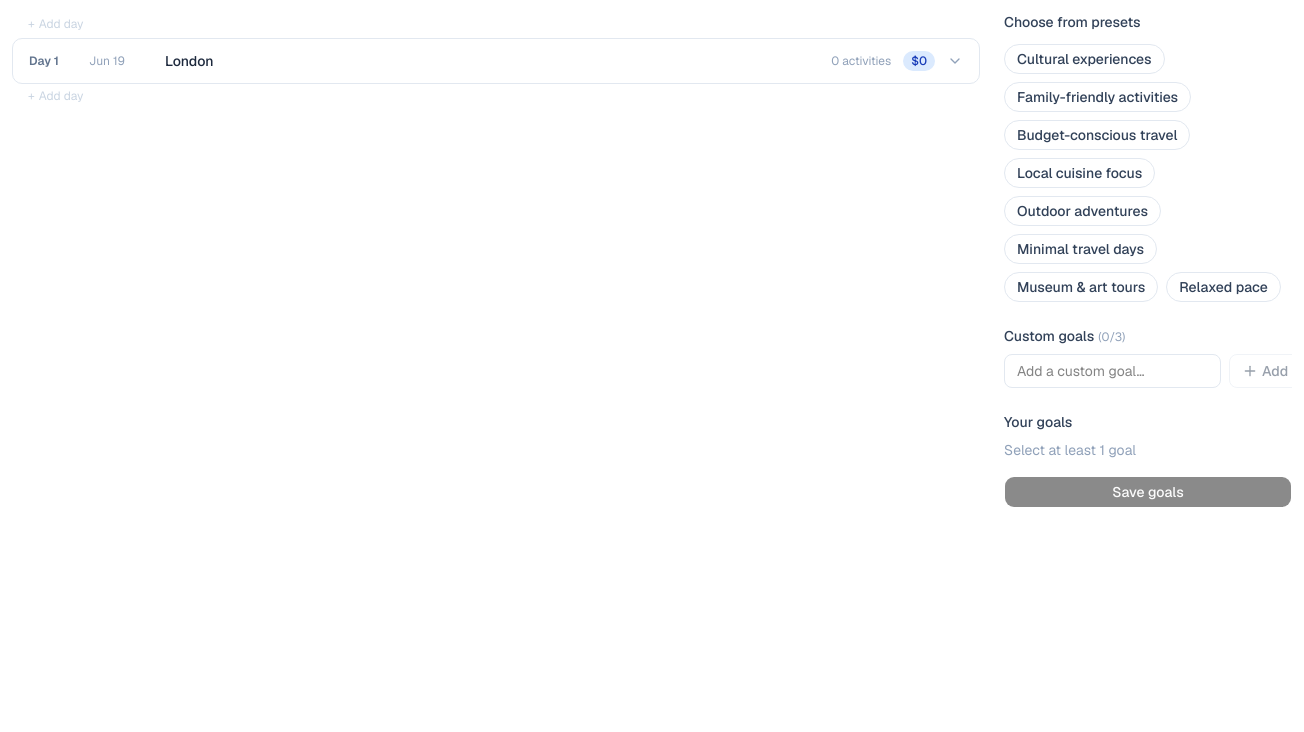
Scenario: validation failure is silent — no error state leaks into the UI
Expected: the text "London" is shown, [165,52,214,70]
Click the 1st button "+ Add day" at (61, 24), box [12,12,980,36]
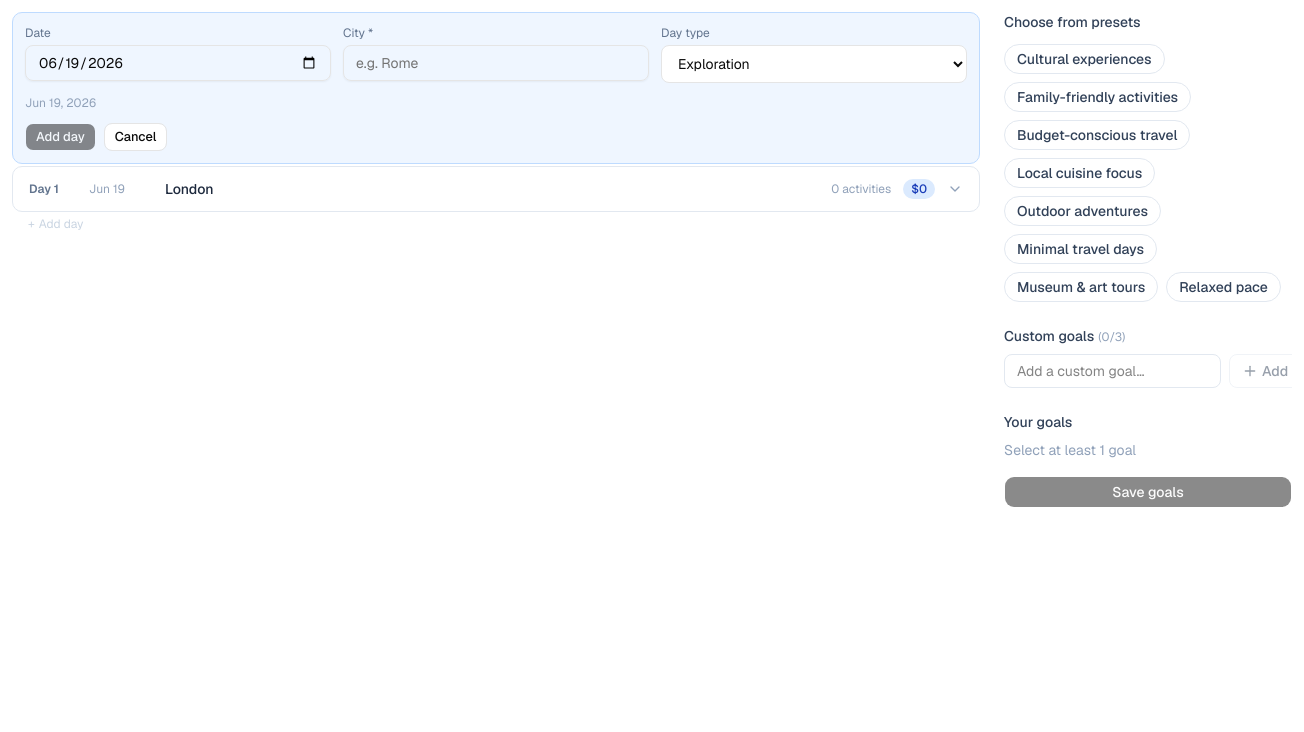
Type "Rome" into the field labelled "City *" at (496, 63), box [343,45,649,81]
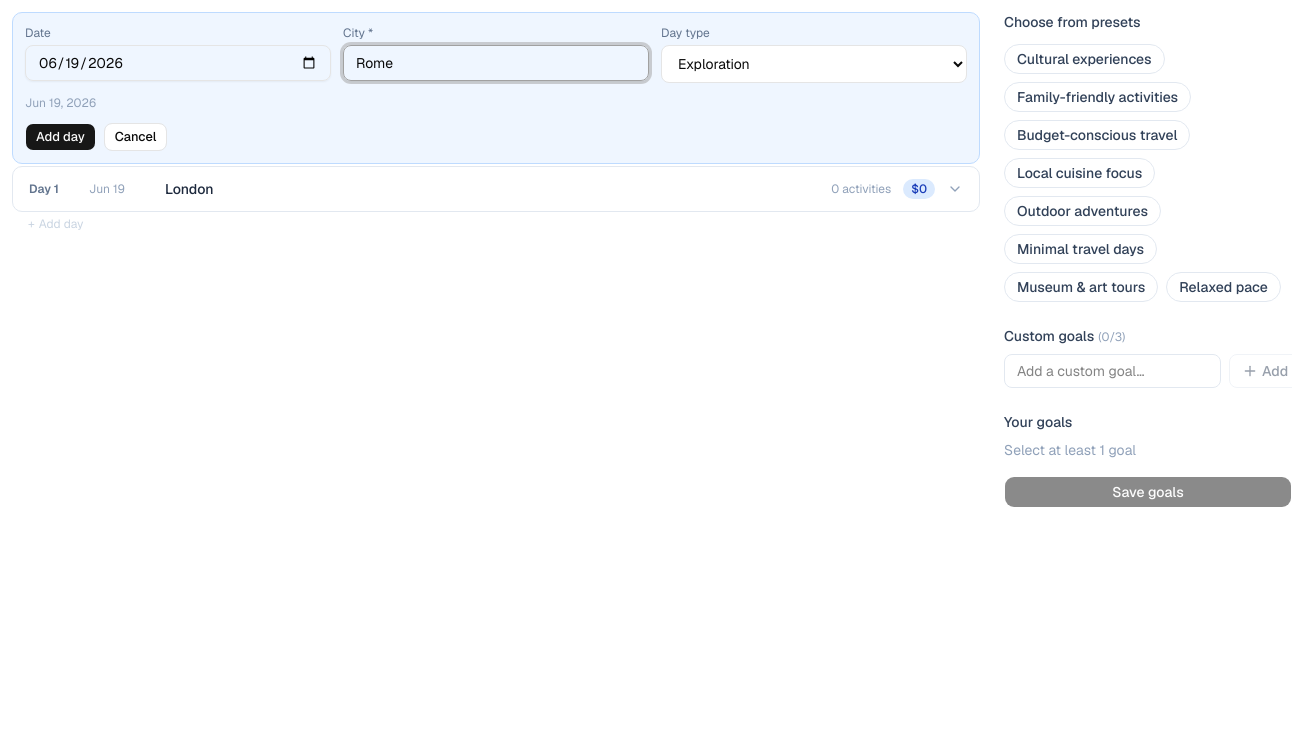
Click the button "Add day" at (60, 137), box [25,123,96,151]
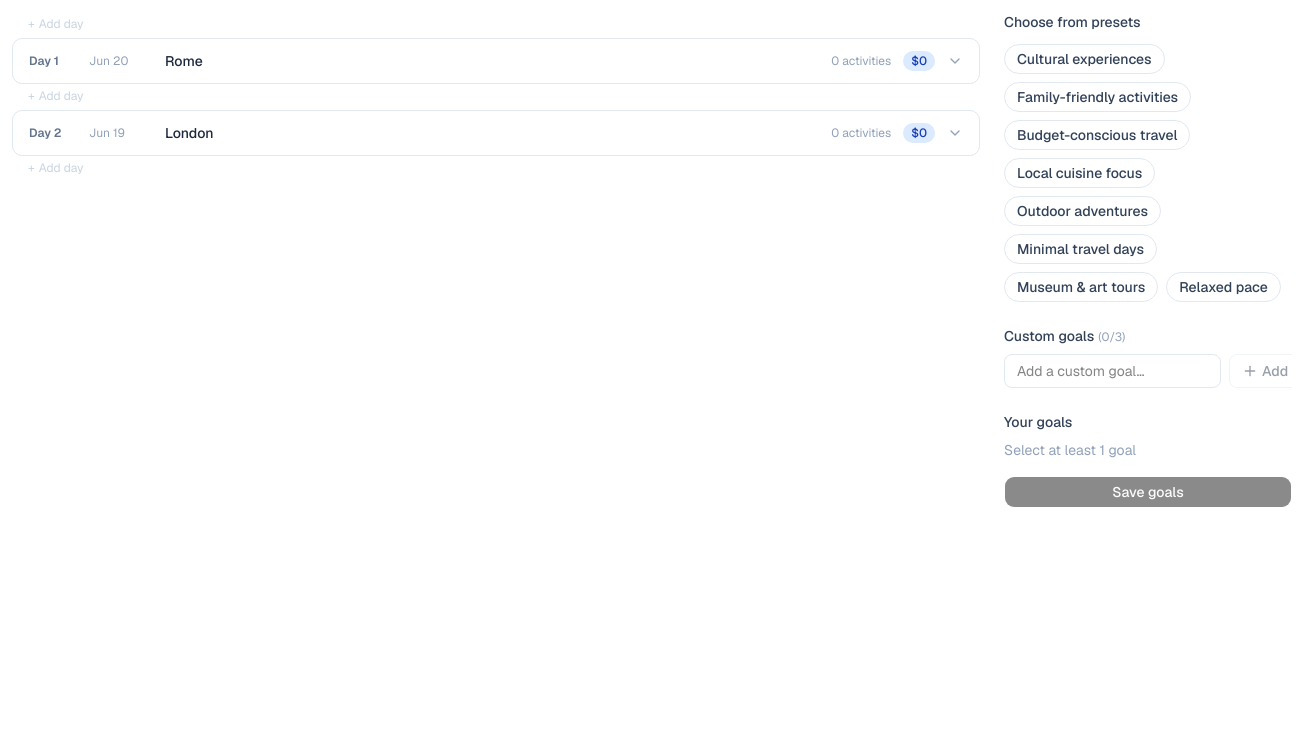
Result: the text "Rome" is shown at [165,52,203,70]
